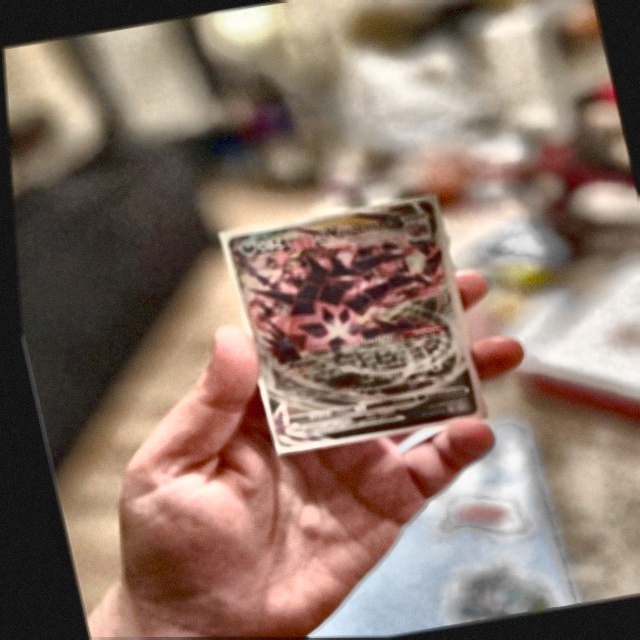card: (221, 201, 471, 448)
